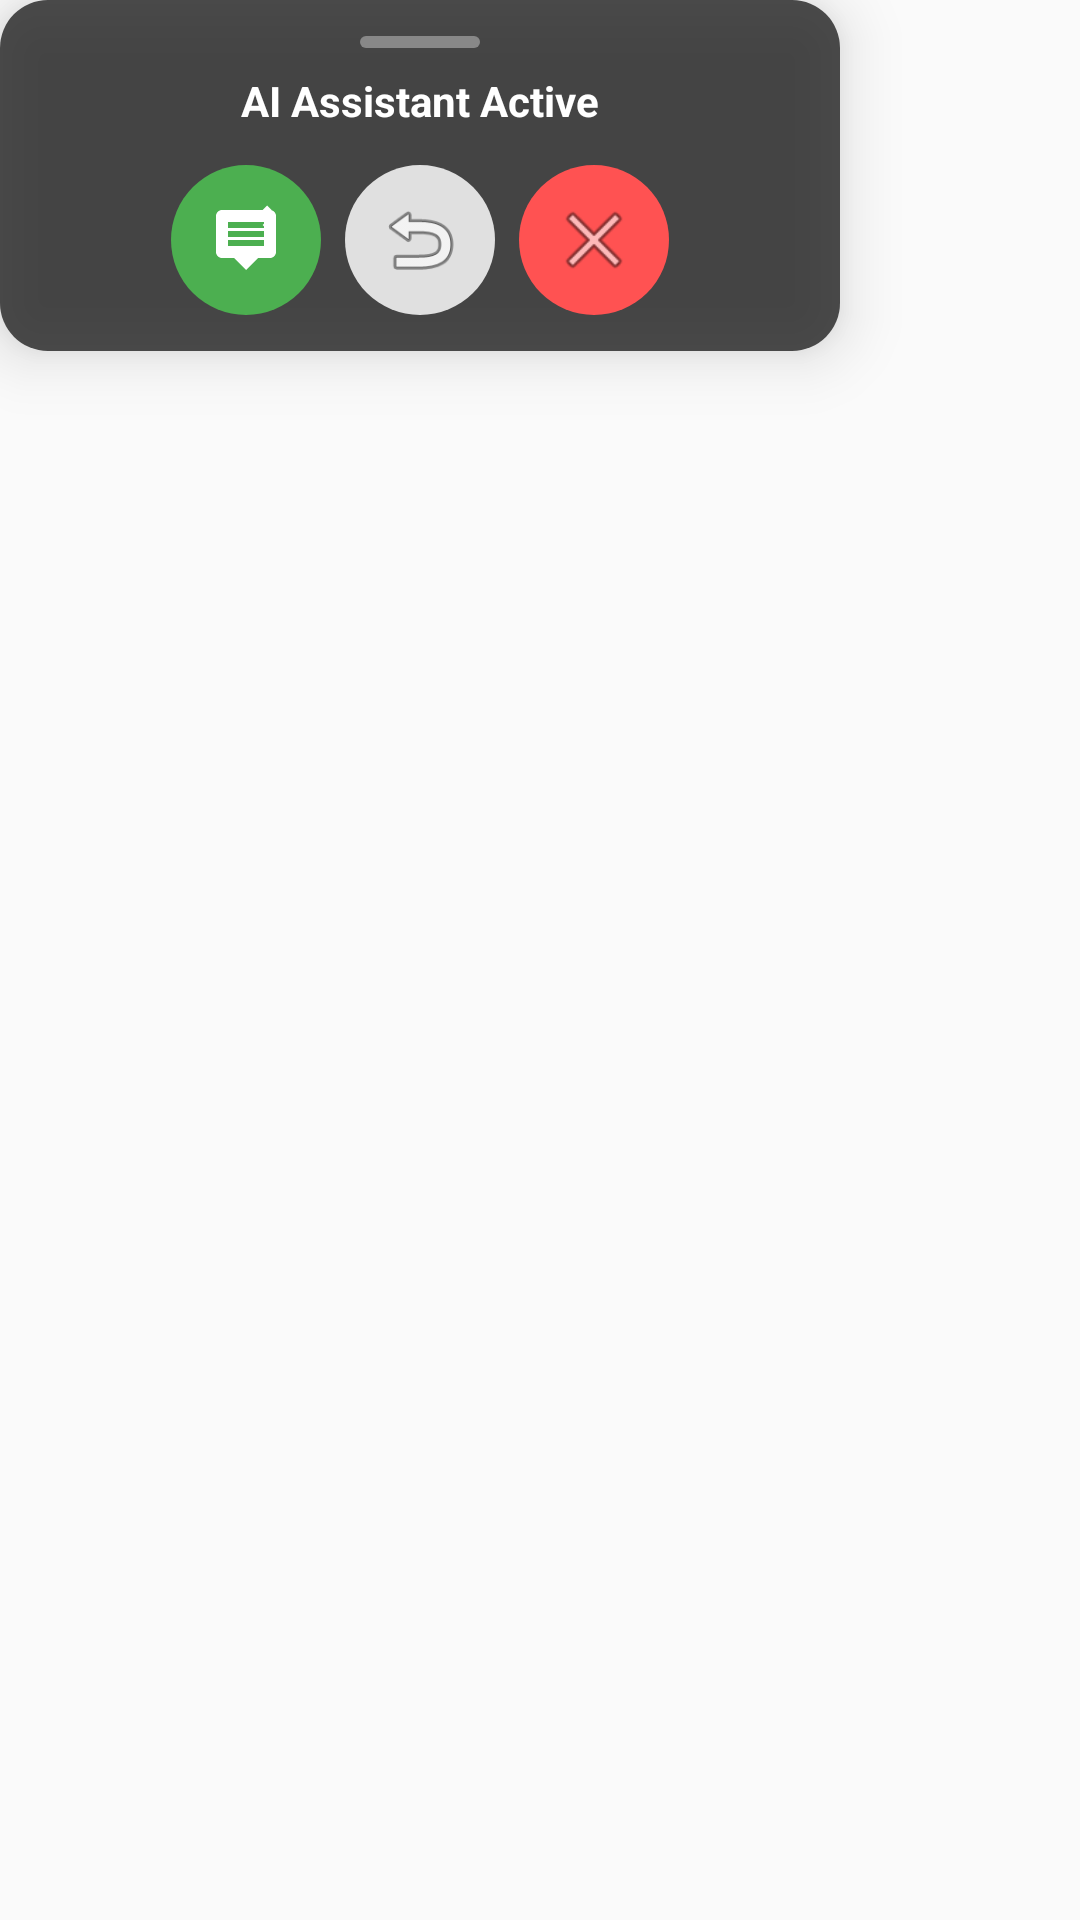

Screen size 1080x1920. Icon name, then its center in pixels as point (x, y):
close clear cancel: point (594, 240)
revert: point (420, 240)
